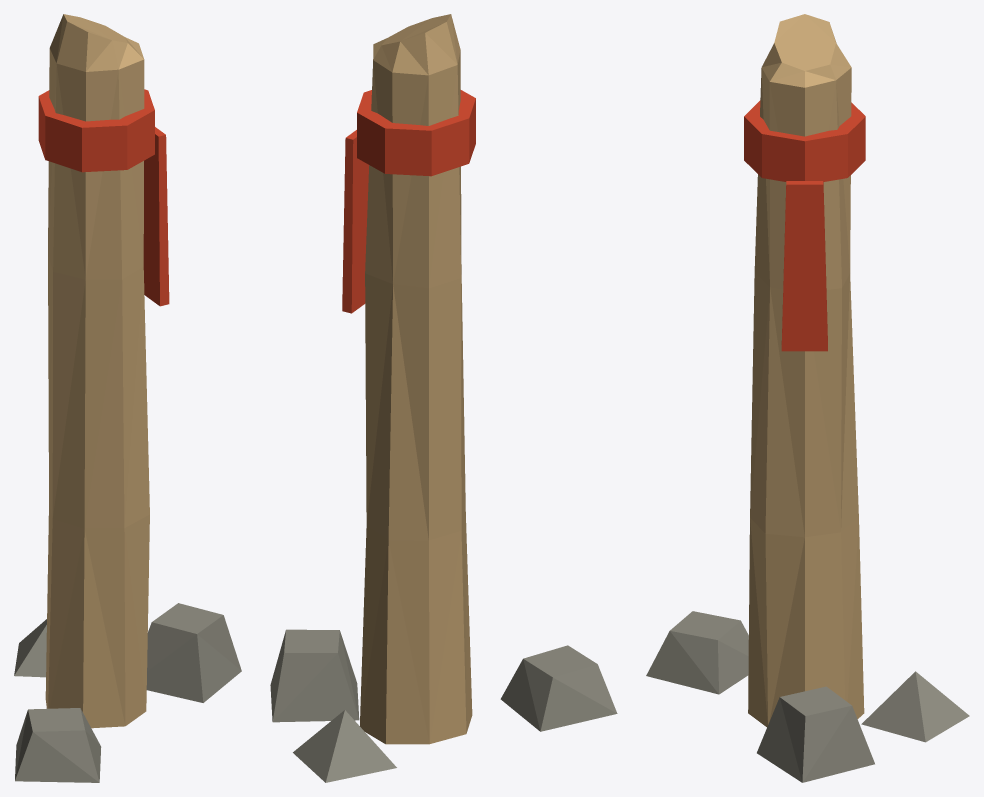
The model's file is LF_TrailPost.fbx.
The picture shows the model from 3 angles, left to right: view 1: azimuth 30°, elevation 25°; view 2: azimuth 150°, elevation 25°; view 3: azimuth 270°, elevation 25°; orthographic projection. The views are drawn at different scales.
Visible parts, largest first — view 1: LF_TrailPost_Post, LF_TrailPost_Stones, LF_TrailPost_Ribbon; view 2: LF_TrailPost_Post, LF_TrailPost_Stones, LF_TrailPost_Ribbon; view 3: LF_TrailPost_Post, LF_TrailPost_Stones, LF_TrailPost_Ribbon.
Boxes of the visible parts, left/top/right/bottom form: LF_TrailPost_Post: left=45, top=14, right=149, bottom=728; LF_TrailPost_Stones: left=14, top=603, right=241, bottom=782; LF_TrailPost_Ribbon: left=38, top=89, right=169, bottom=306; LF_TrailPost_Post: left=360, top=14, right=472, bottom=744; LF_TrailPost_Stones: left=270, top=629, right=617, bottom=782; LF_TrailPost_Ribbon: left=342, top=90, right=475, bottom=313; LF_TrailPost_Post: left=748, top=14, right=864, bottom=727; LF_TrailPost_Stones: left=646, top=611, right=969, bottom=782; LF_TrailPost_Ribbon: left=744, top=100, right=865, bottom=351.
Bounding box in the file's own units: 3 × 7 × 3.
